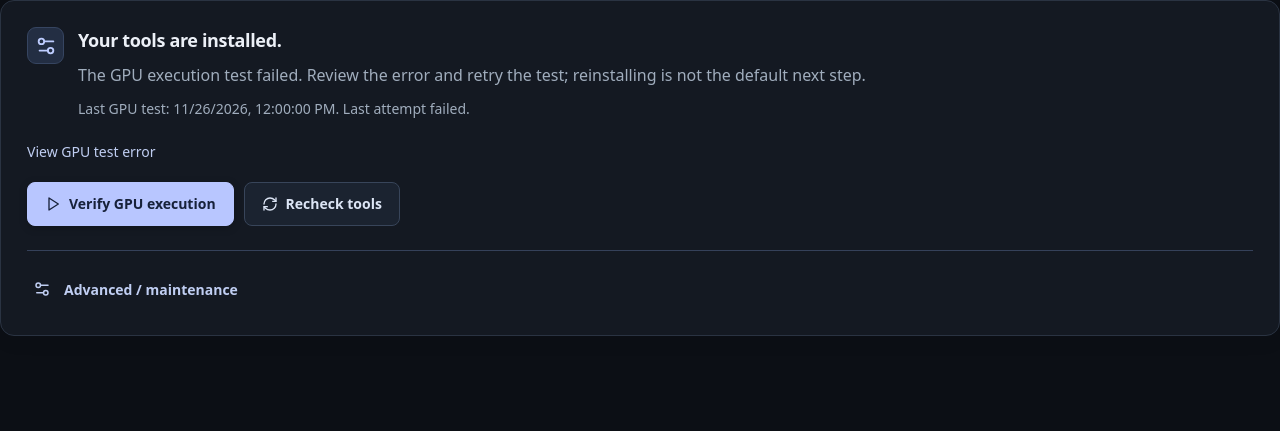
Test: shows a failed GPU test with retry and hides installation
Check: the button "Verify GPU execution" is enabled, box [27,182,234,226]
Click the heading "View GPU test error": (91,152) [27,142,156,161]
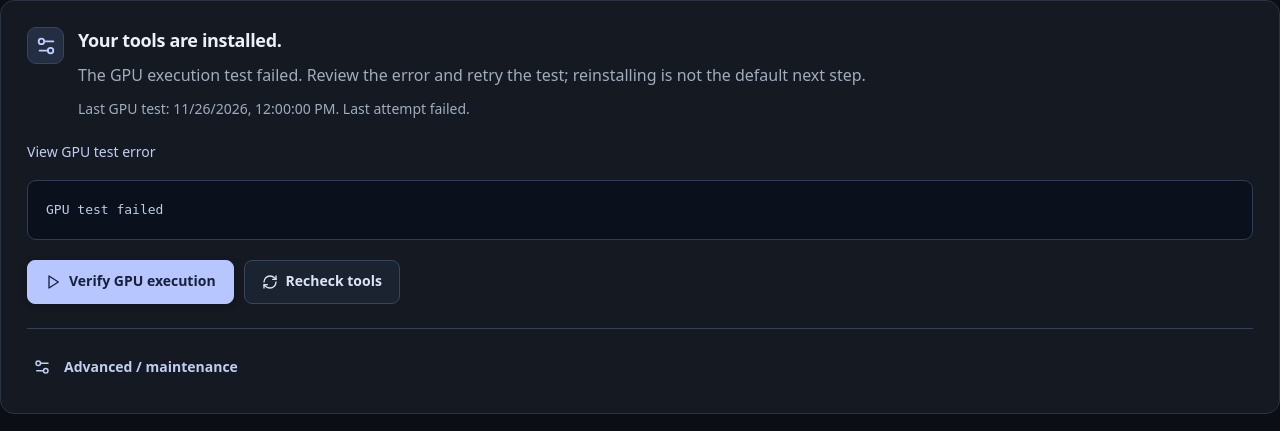
Check: the text "GPU test failed" is shown, box [27,180,1253,240]
